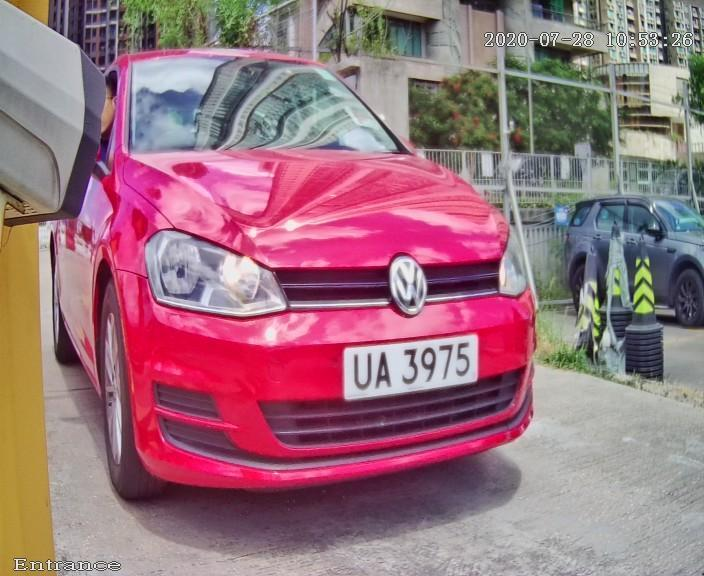privatecar: (26, 3, 620, 551)
